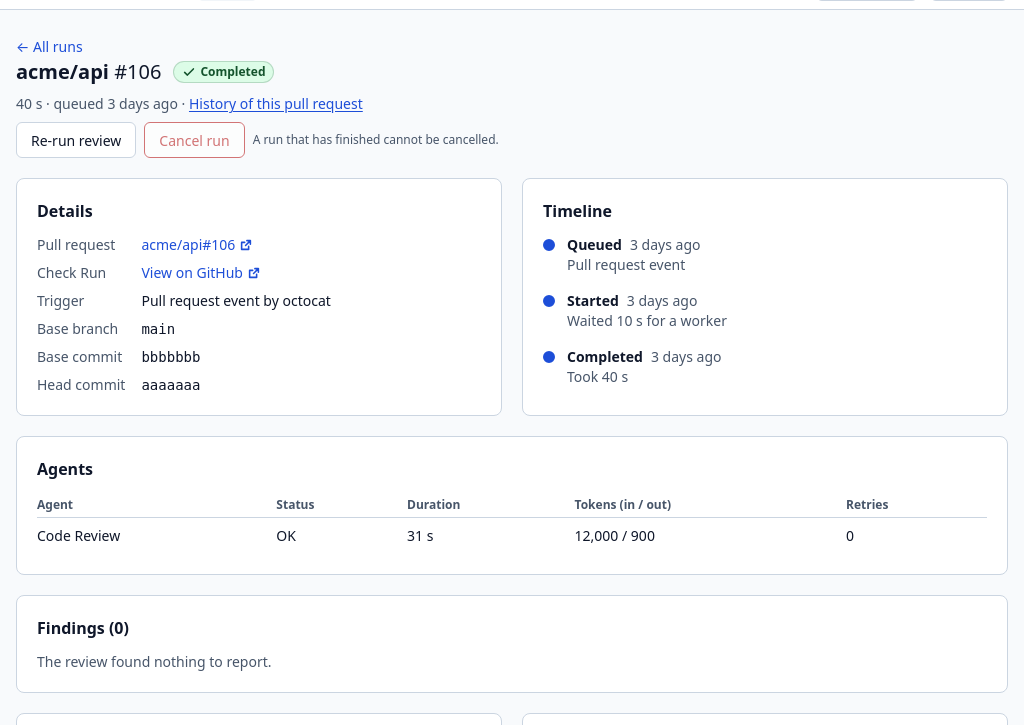
Scenario: Re-run › does nothing when the dialog is cancelled
The width and height of the screenshot is (1024, 725).
Click the button "Re-run review" at (76, 140), box [16,122,136,158]
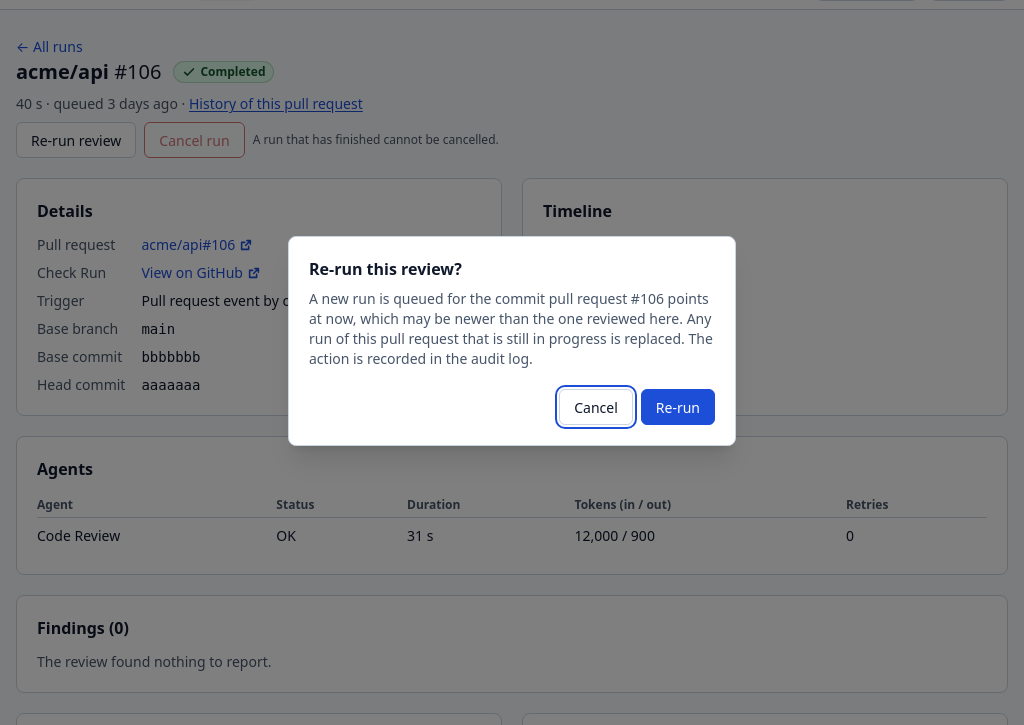
Click the button "Cancel" at (596, 407), box [559,389,633,425]
(page scrolled)
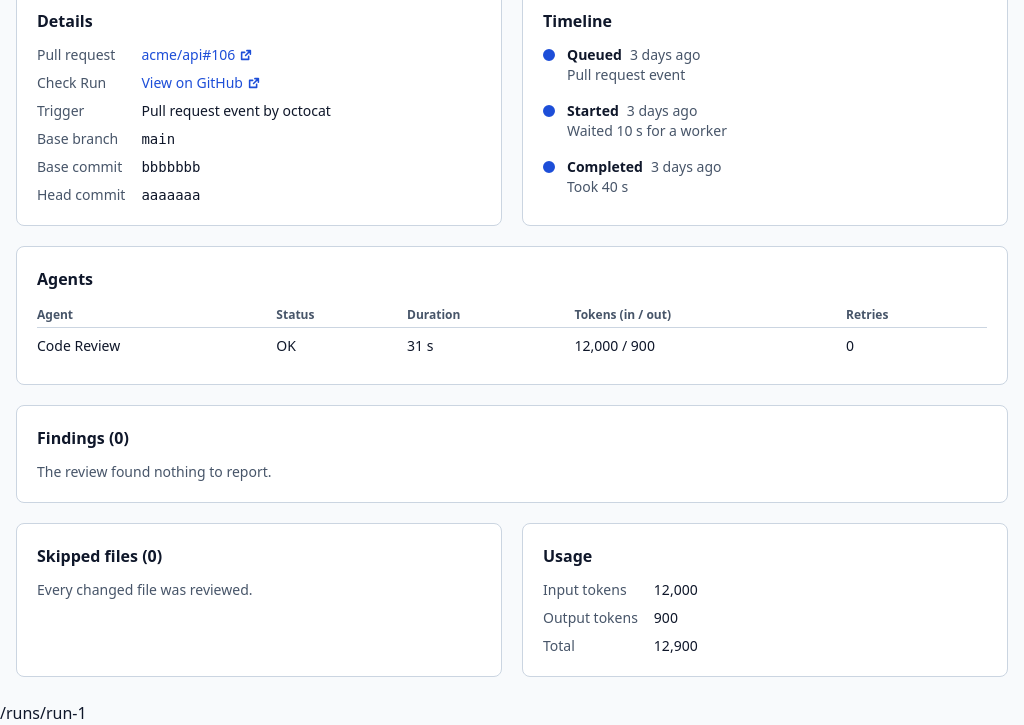
Expected: the text with test id "location" reads "/runs/run-1", [0,702,87,724]
Expected: the dialog is gone
